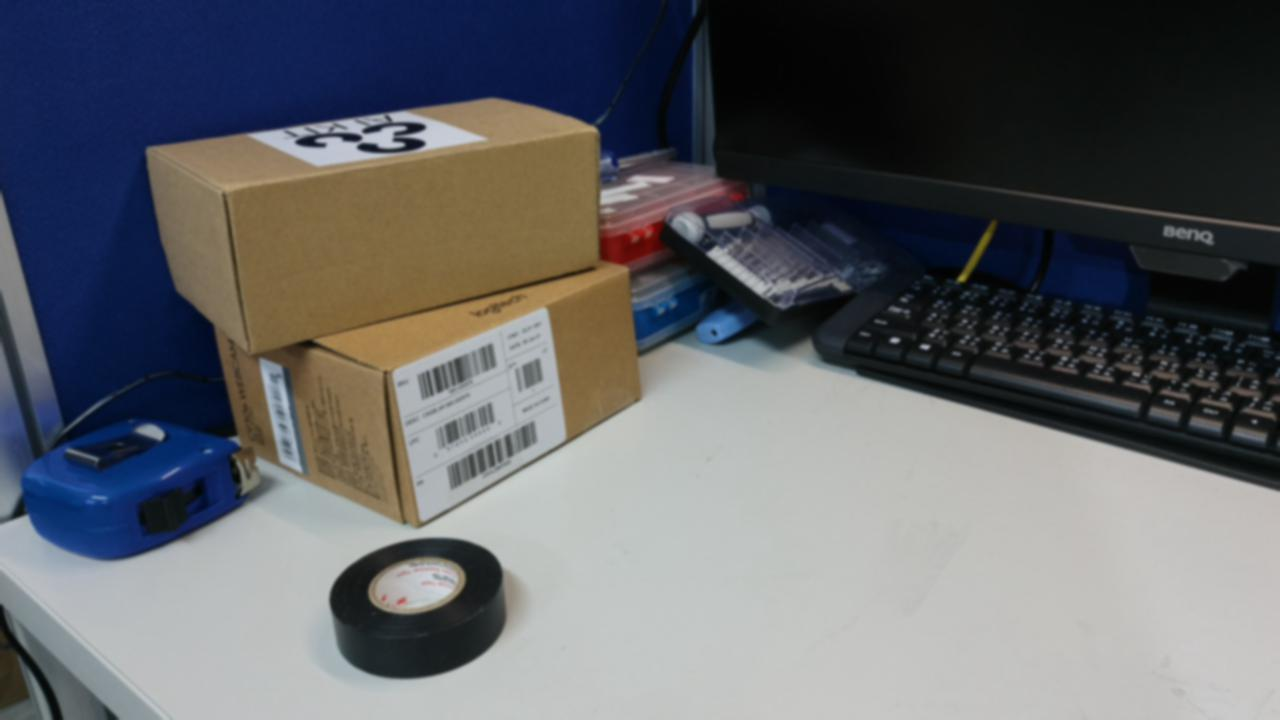columnar: (834, 297, 922, 547)
